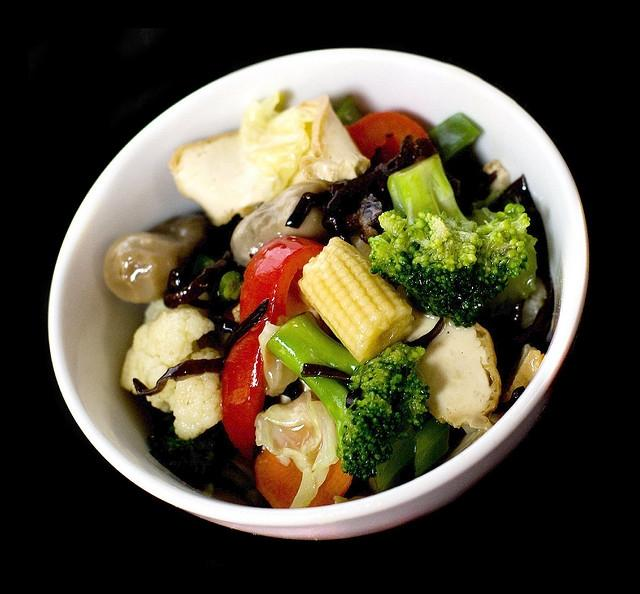broccoli: (368, 154, 530, 328), (266, 313, 429, 480)
carrot: (254, 449, 353, 508), (344, 111, 430, 162)
cauliflower: (116, 303, 226, 437), (417, 318, 502, 432)
corn: (298, 237, 415, 364)
tomato: (222, 236, 324, 461), (345, 111, 428, 159), (255, 449, 302, 508)
